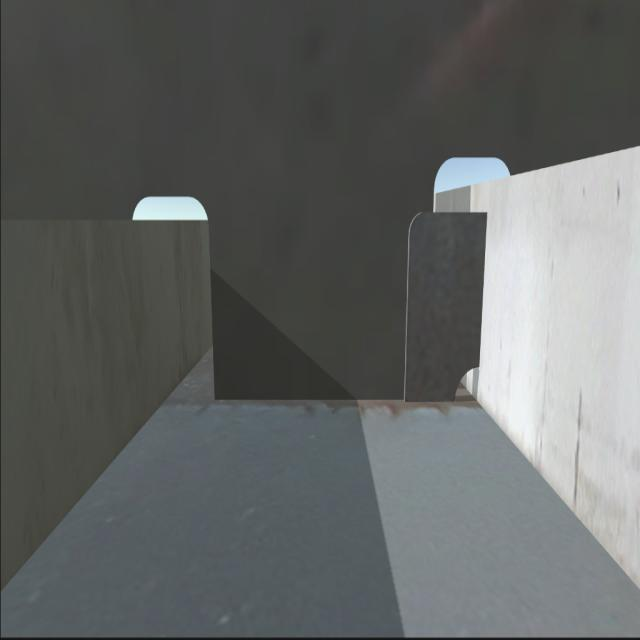fillet_hole: (448, 365, 484, 399)
fillet_yong_jeop_jang: (214, 385, 455, 410)
longi_yong_jeop_jang: (477, 212, 492, 365)
plate_CP05: (409, 203, 484, 401)
